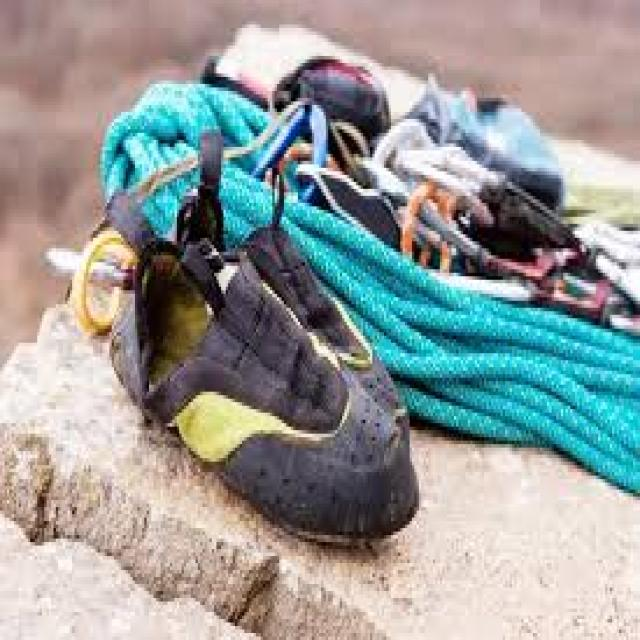climbing-shoes: (122, 204, 420, 546)
